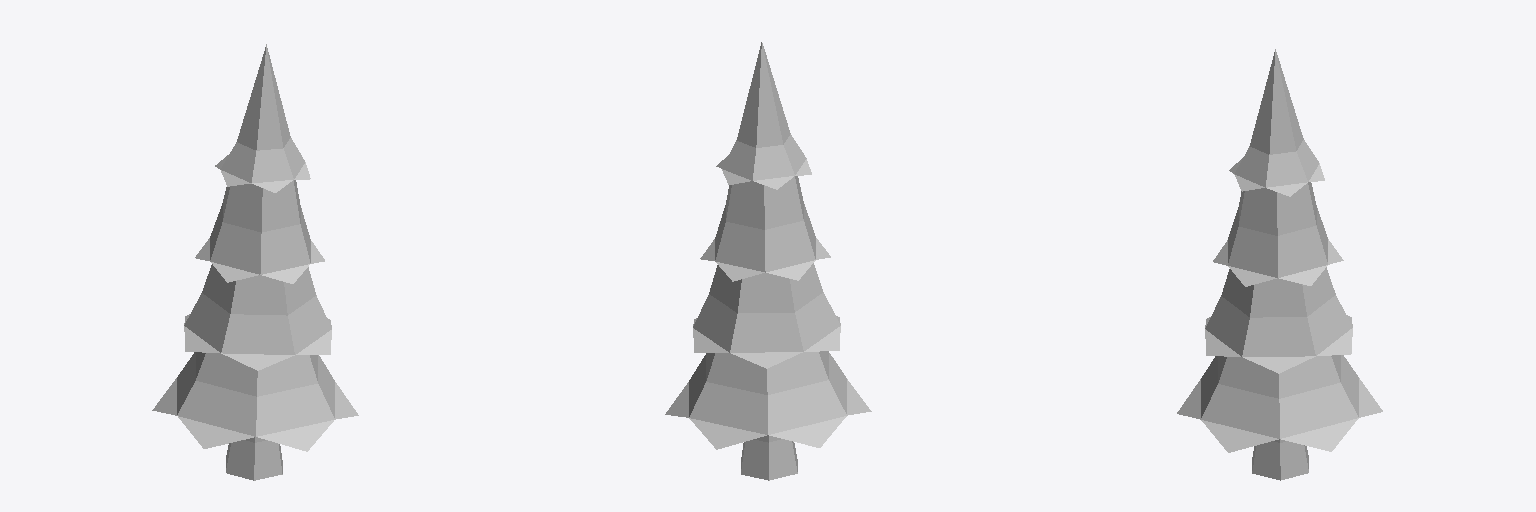
The model's file is Pine_3.obj.
3 views of the same model, side by side, from view 1: azimuth 30°, elevation 25°; view 2: azimuth 150°, elevation 25°; view 3: azimuth 270°, elevation 25° (orthographic).
Parts seen in each view (by area): view 1: Pine_3; view 2: Pine_3; view 3: Pine_3.
Part boxes in pixels (left/top/right/bottom): Pine_3: left=152, top=44, right=358, bottom=480; Pine_3: left=665, top=42, right=871, bottom=480; Pine_3: left=1177, top=49, right=1382, bottom=480.
Bounding box in the file's own units: 1.18 × 3.01 × 1.33.